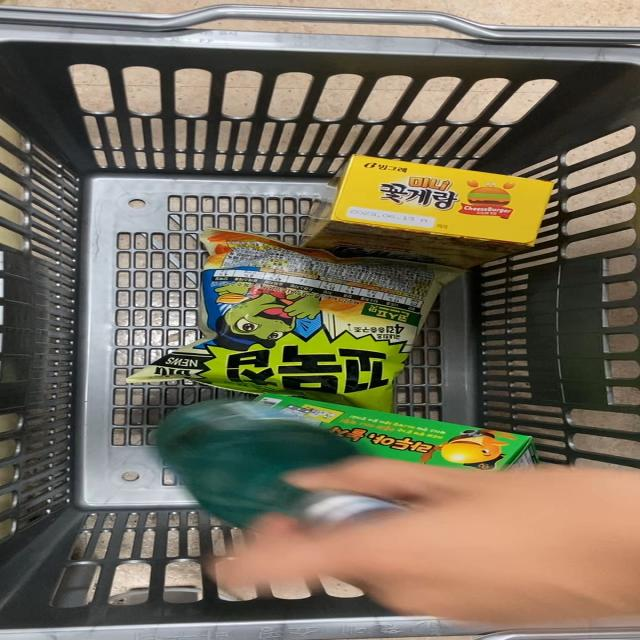ggobukchip: (159, 232, 470, 410)
goraebob: (300, 389, 528, 485)
jinro: (152, 394, 376, 559)
minicrab: (290, 158, 546, 248)
